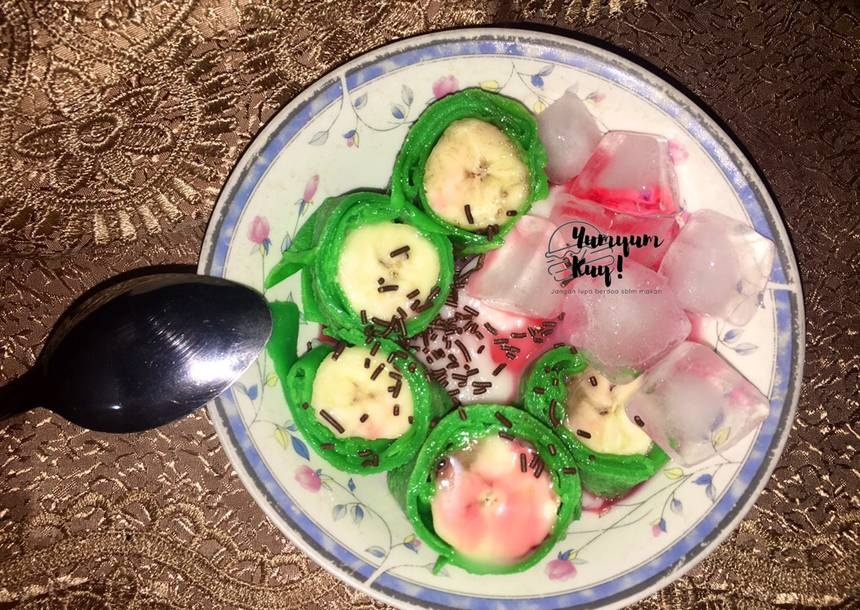pisang_ijo: (389, 69, 556, 249)
